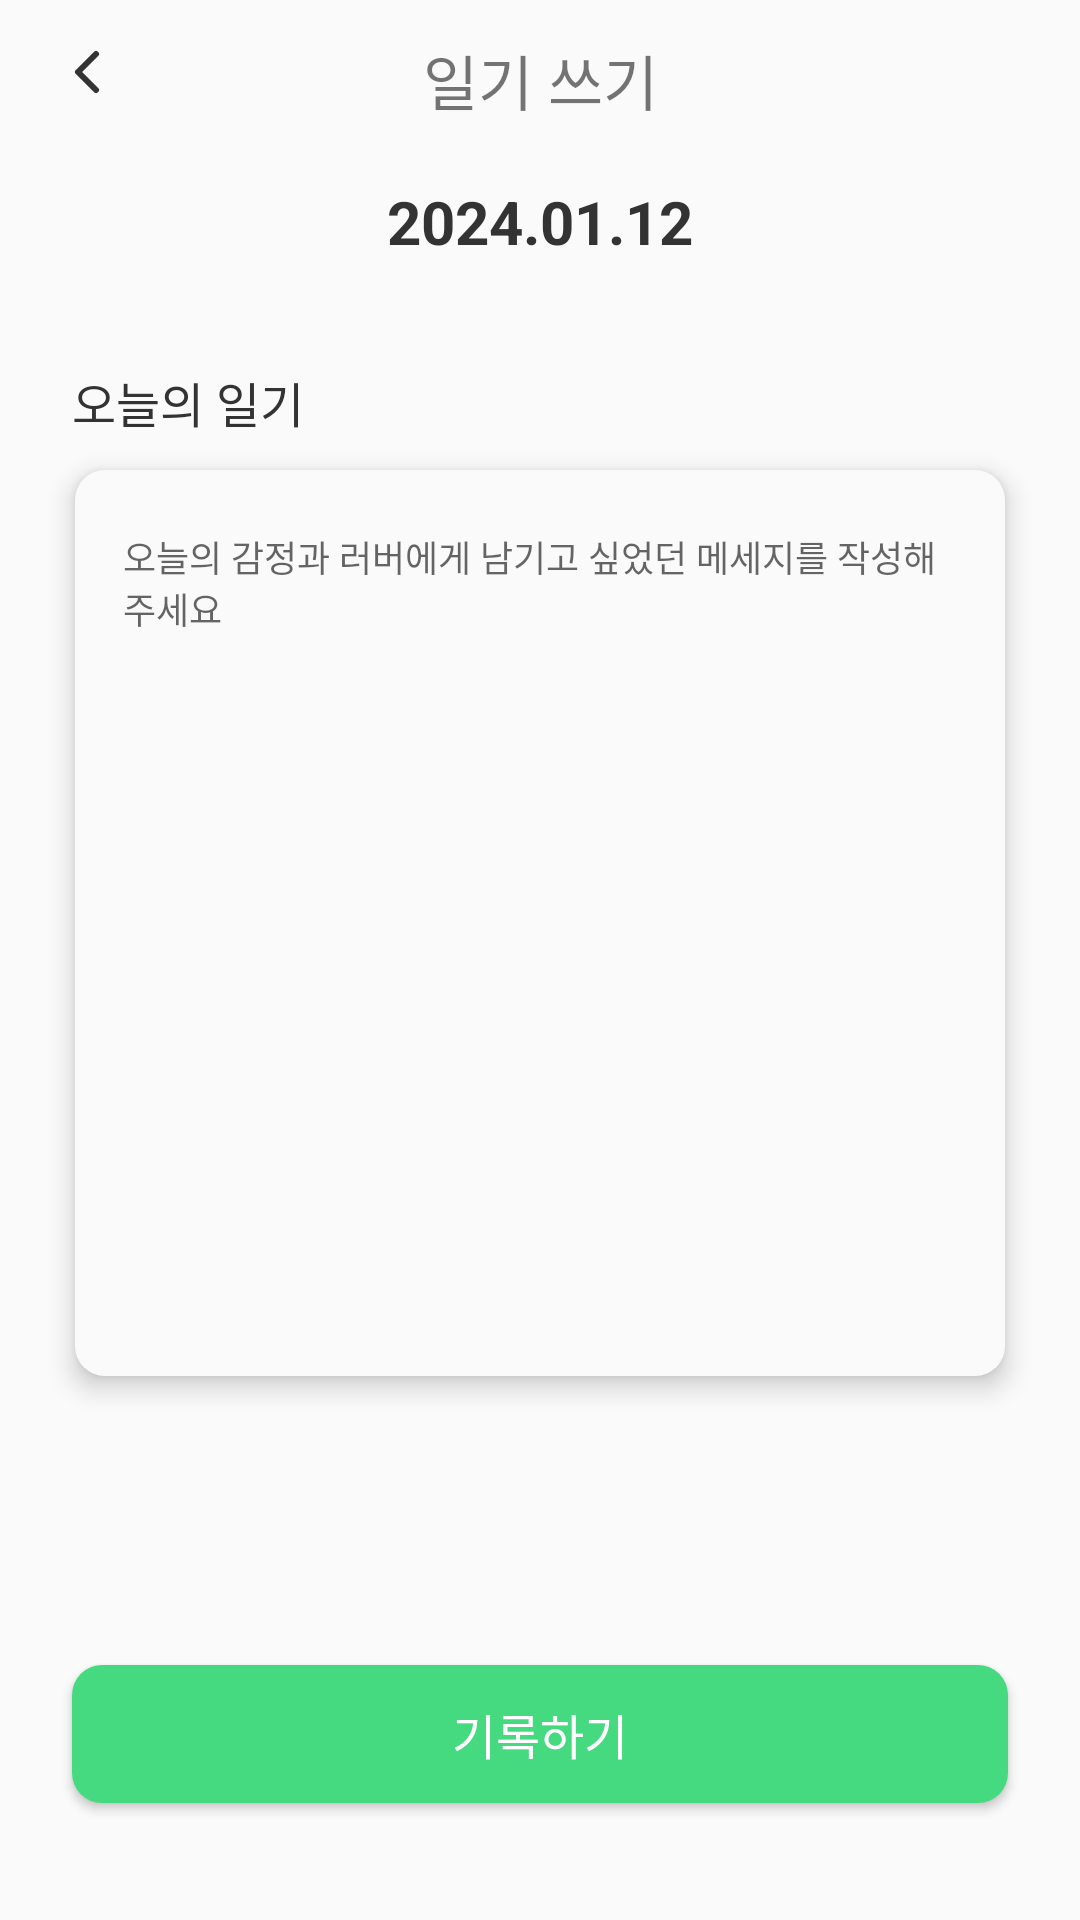

Where to tap for icons on this 1080px x 1920px app screen, as (x=x, y=y):
back: (x=87, y=72)
